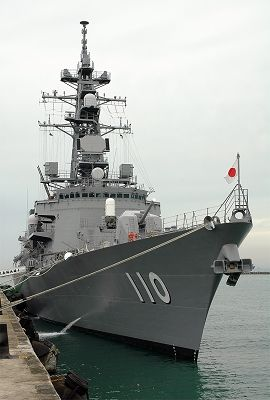warship: (12, 11, 258, 358)
